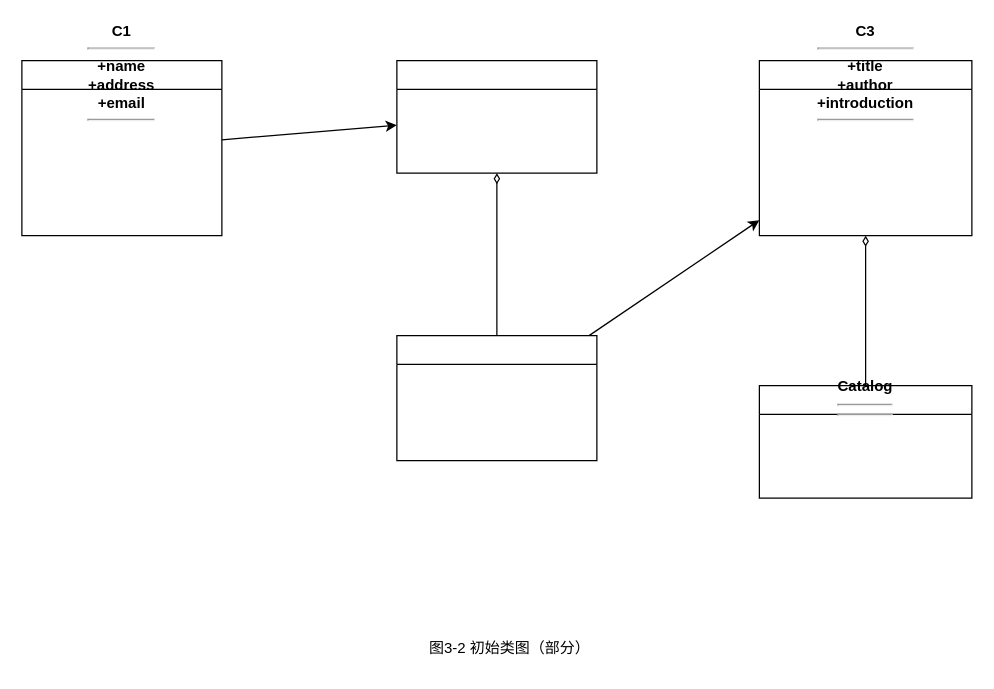
Some shapes in this 994 by 689 pixel diagram are drawn without their labels. The box of each missing label's shape, as (x1, y1, x2, y2) in pixels:
C2: (396, 59, 597, 173)
OrderedBook +quantity: (396, 334, 597, 461)
